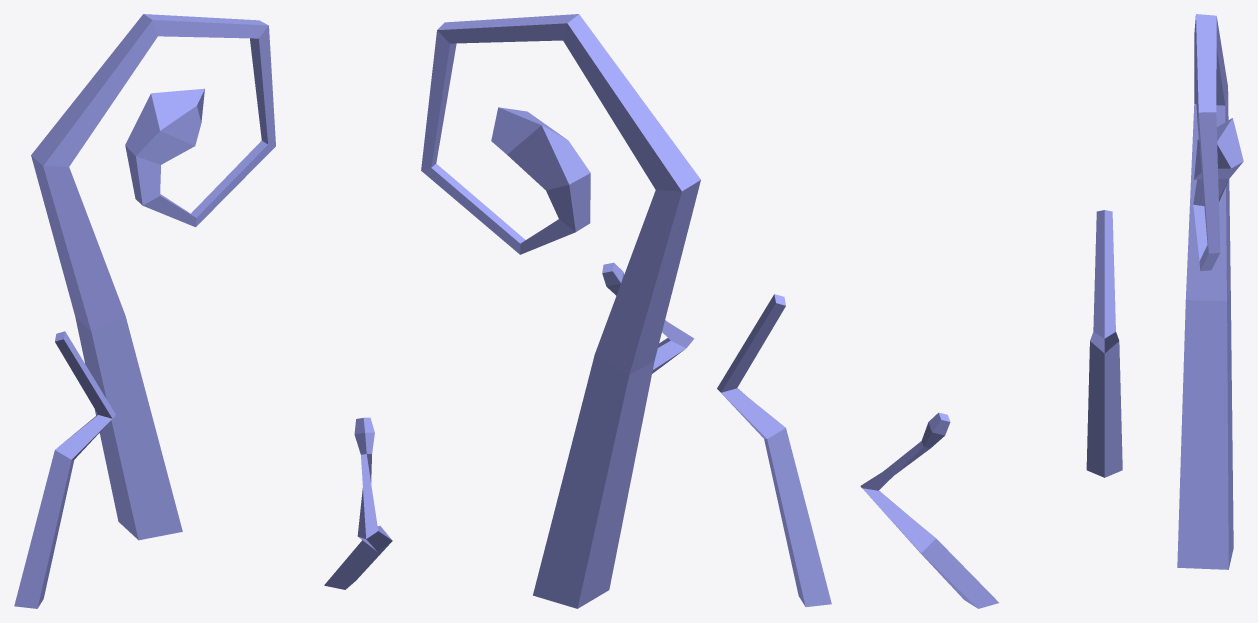
The model's file is st1_grass3.fbx.
3 renders of one model, left to right at view 1: azimuth 30°, elevation 25°; view 2: azimuth 150°, elevation 25°; view 3: azimuth 270°, elevation 25°, orthographic. The views are drawn at different scales.
Visible parts, largest first — view 1: BezierCurve_002; view 2: BezierCurve_002; view 3: BezierCurve_002.
Boxes of the visible parts, x1,y1,x2,y2 form: BezierCurve_002: (14,14,392,608); BezierCurve_002: (421,14,831,608); BezierCurve_002: (860,14,1243,608).
Size of the model in its own units: 130 by 204 by 130.
